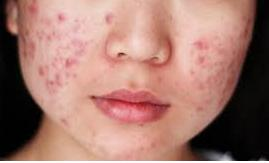Acne: (15, 0, 119, 101), (189, 13, 254, 115), (57, 113, 183, 162)
